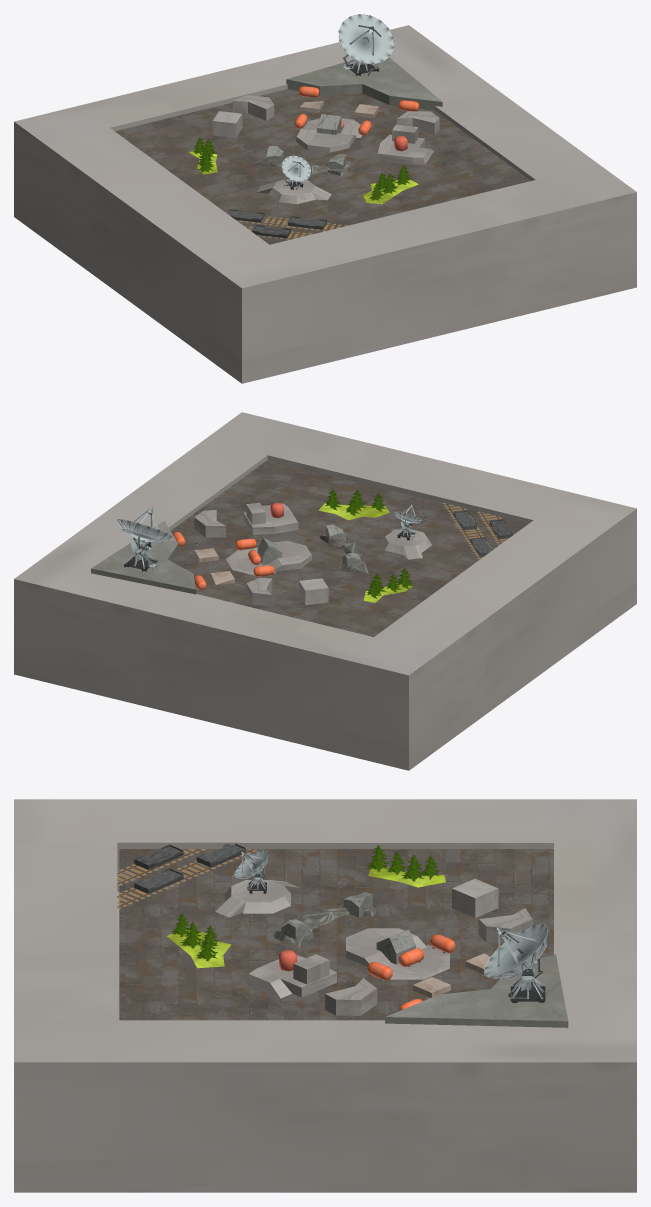
The model's file is TL_core2.glb.
The picture shows the model from 3 angles, top to bottom: view 1: azimuth 30°, elevation 25°; view 2: azimuth 150°, elevation 25°; view 3: azimuth 270°, elevation 25°; orthographic projection. The views are drawn at different scales.
Parts seen in each view (by area): view 1: image-removebg-preview(6) - Copy.001, Cube.003, Plane.002; view 2: image-removebg-preview(6) - Copy.001, Cube.003, Plane.002; view 3: image-removebg-preview(6) - Copy.001, Cube.003, Plane.002.
Part boxes in pixels (box(x1,y1,x2,y2)): image-removebg-preview(6) - Copy.001: box(14, 14, 636, 383); Cube.003: box(286, 57, 442, 110); Plane.002: box(189, 150, 418, 204); image-removebg-preview(6) - Copy.001: box(14, 412, 636, 770); Cube.003: box(91, 521, 195, 594); Plane.002: box(318, 503, 412, 602); image-removebg-preview(6) - Copy.001: box(14, 799, 636, 1192); Cube.003: box(385, 954, 568, 1027); Plane.002: box(167, 867, 445, 968).
Size of the model in its own units: 2 by 0.7365 by 2.
18 materials, 14 textured.
